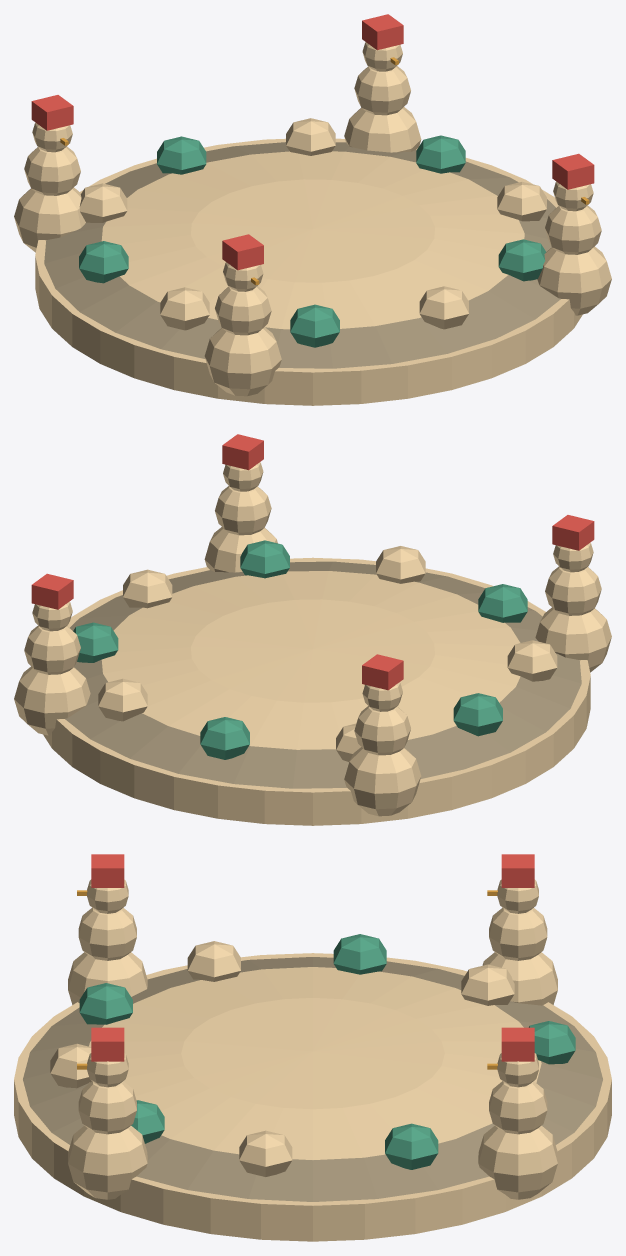
File: ParkParkSnowMound.obj
3 views of the same model, one above another, from view 1: azimuth 30°, elevation 25°; view 2: azimuth 150°, elevation 25°; view 3: azimuth 270°, elevation 25° (orthographic). The views are drawn at different scales.
Visible parts, largest first — view 1: ParkParkSnowMound; view 2: ParkParkSnowMound; view 3: ParkParkSnowMound.
Boxes of the visible parts, x1=… form: ParkParkSnowMound: x1=14, y1=14, x2=611, y2=405; ParkParkSnowMound: x1=14, y1=434, x2=611, y2=825; ParkParkSnowMound: x1=14, y1=854, x2=611, y2=1241.
Size of the model in its own units: 13.6 by 4.2 by 13.6.
